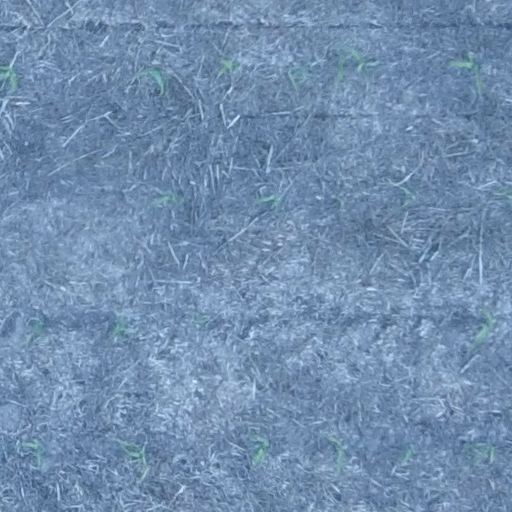planta: (330, 38, 376, 90), (444, 50, 488, 97), (117, 437, 154, 484), (129, 61, 171, 99), (467, 303, 499, 352), (322, 430, 349, 477), (461, 440, 499, 468), (247, 432, 272, 470), (18, 436, 47, 465), (19, 318, 47, 347), (390, 187, 417, 217), (213, 52, 242, 79), (250, 191, 283, 214), (284, 64, 312, 91), (147, 190, 183, 209), (109, 312, 131, 340), (395, 444, 416, 465), (189, 312, 214, 329), (332, 189, 347, 211)
